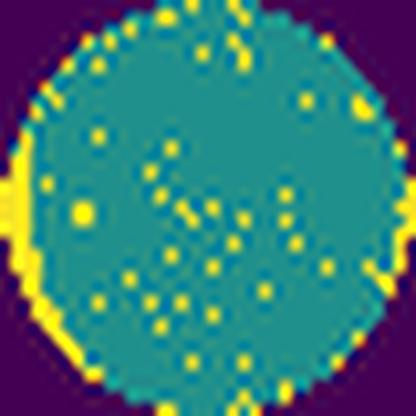Edge-Loc: (0, 124, 101, 384), (360, 163, 415, 300)
